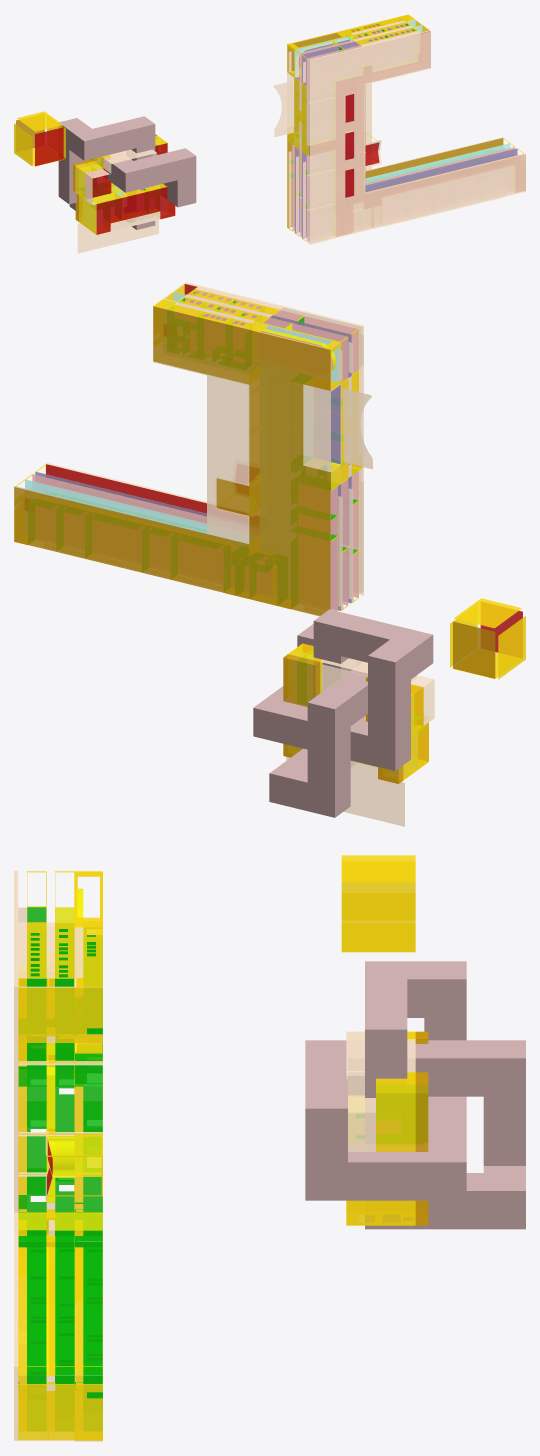
Rendered from hello-world-2021-02-01 (1).gltf.
The picture shows the model from 3 angles, top to bottom: view 1: azimuth 30°, elevation 25°; view 2: azimuth 150°, elevation 25°; view 3: azimuth 270°, elevation 25°; orthographic projection. The views are drawn at different scales.
Bounding box in the file's own units: 126 × 69.28 × 69.14.
